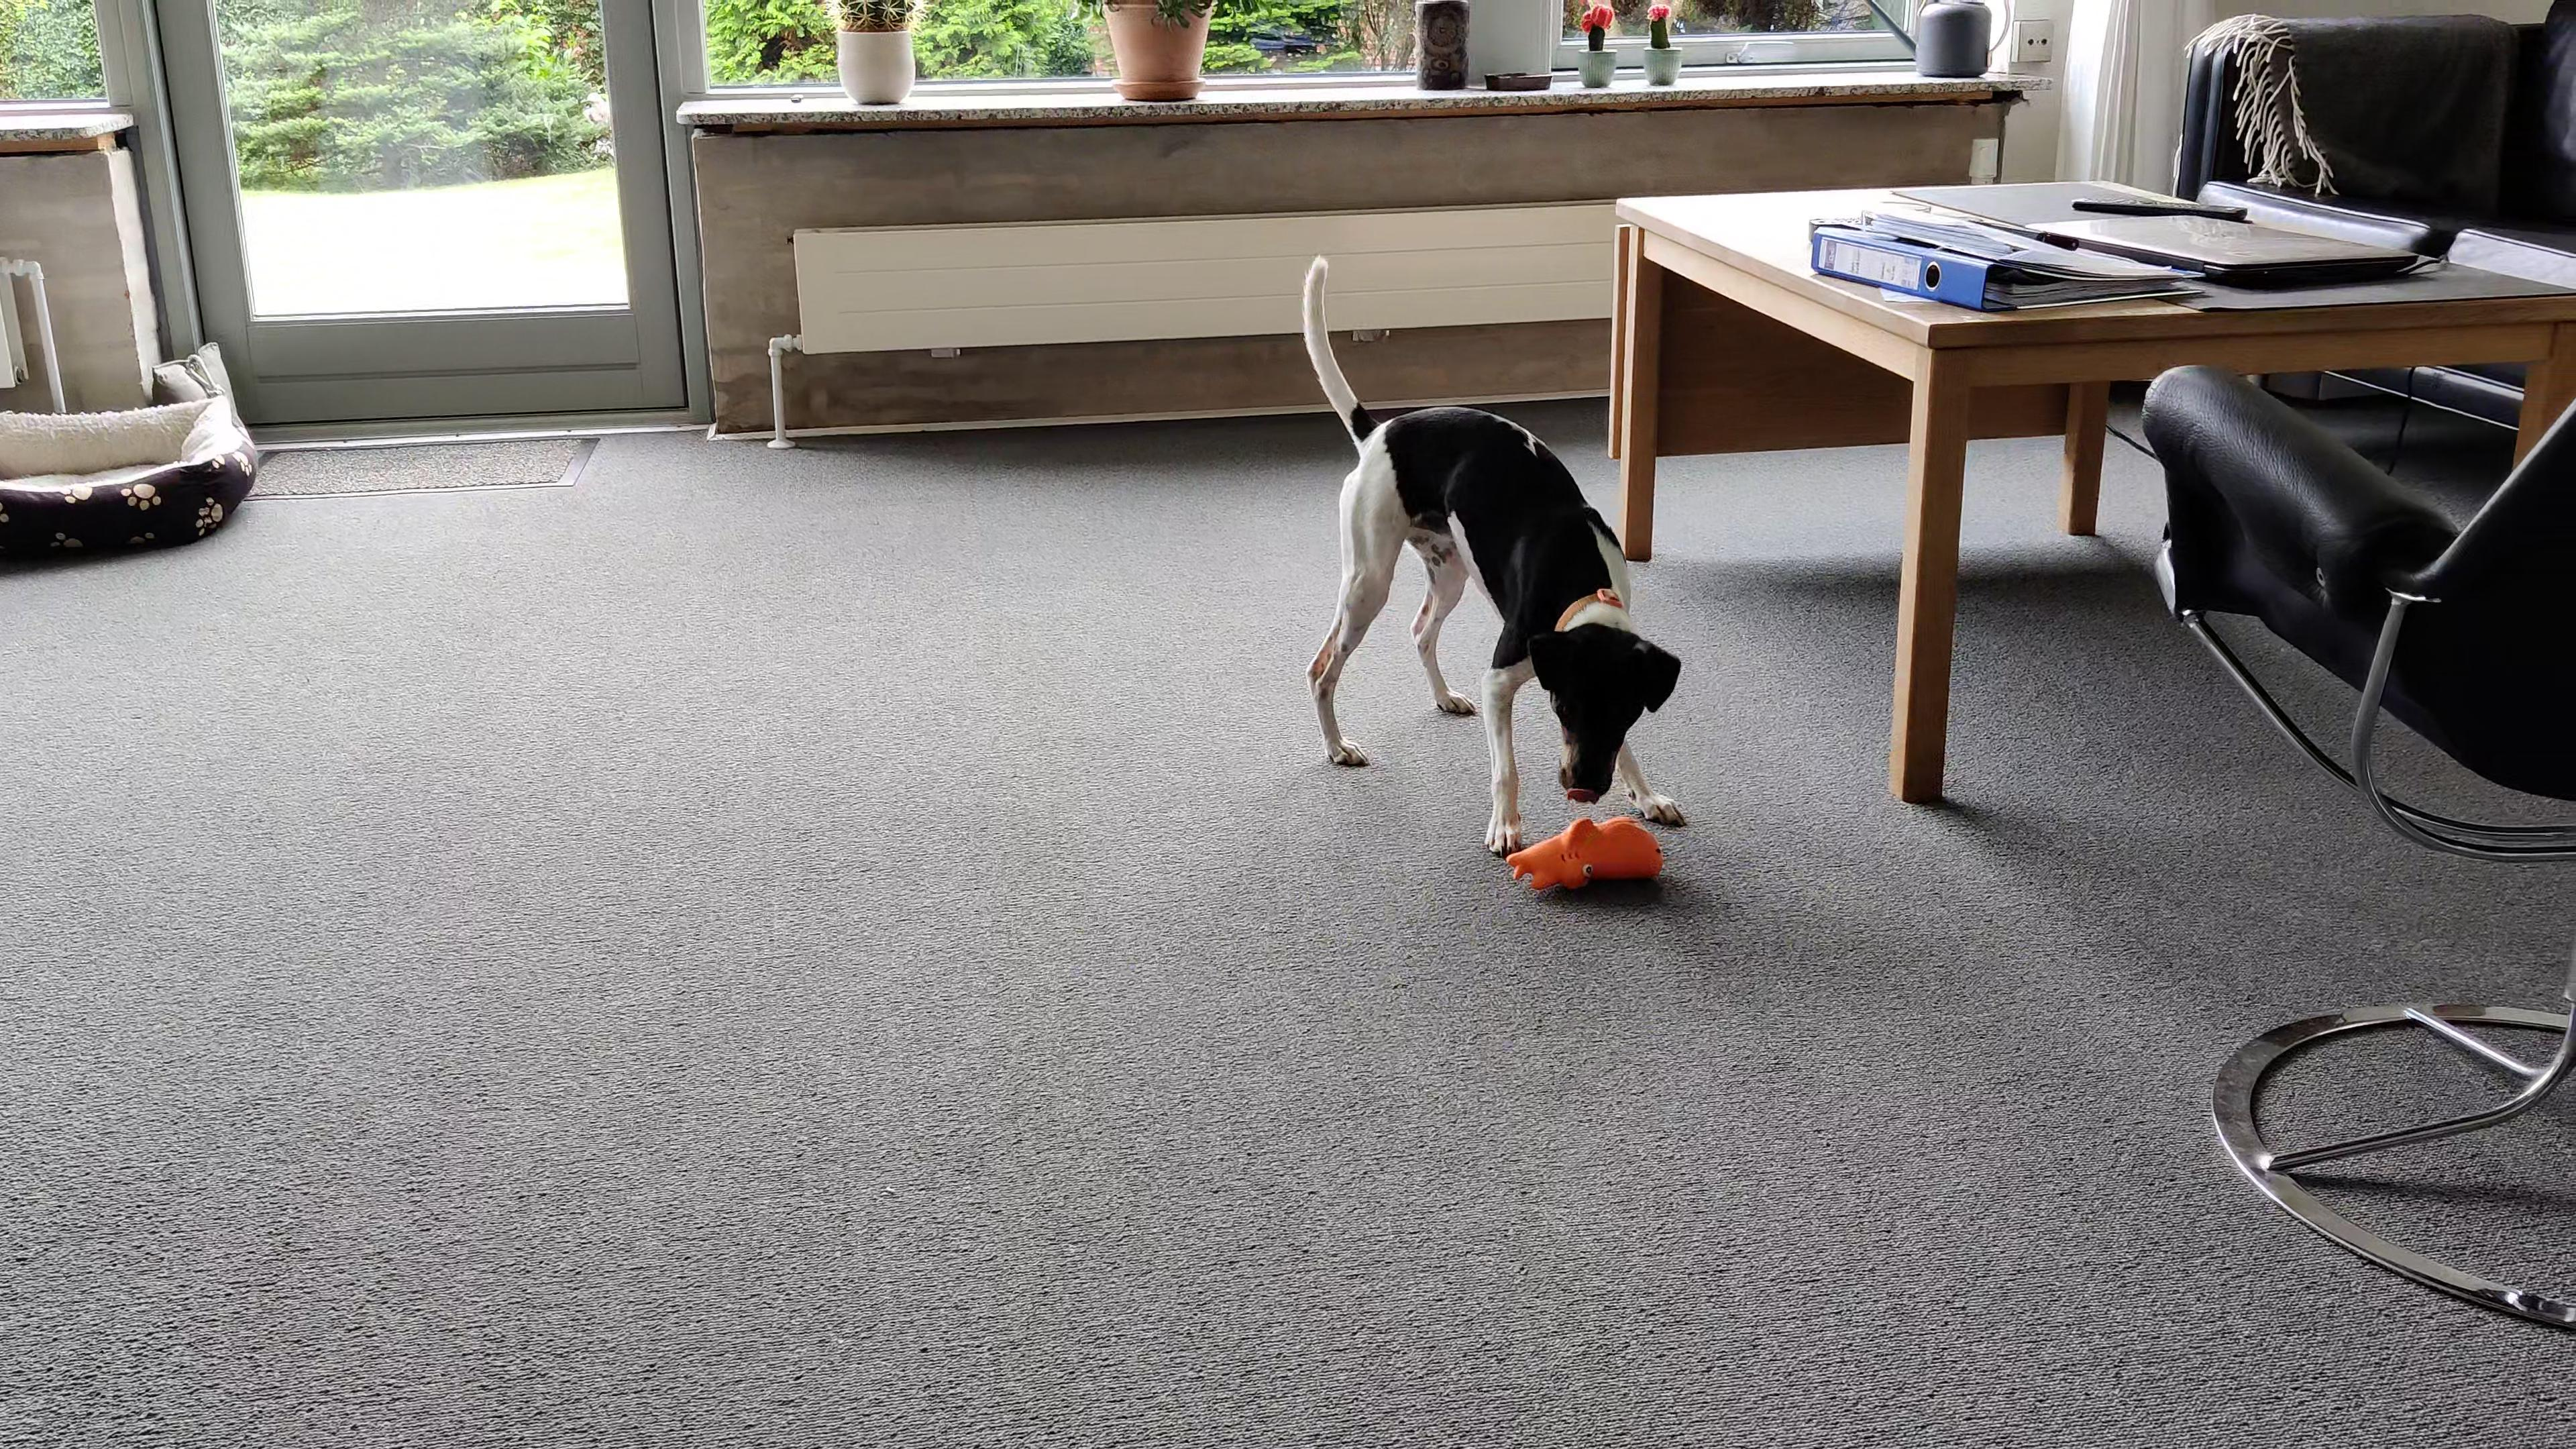Dog: (1265, 239, 1698, 860)
